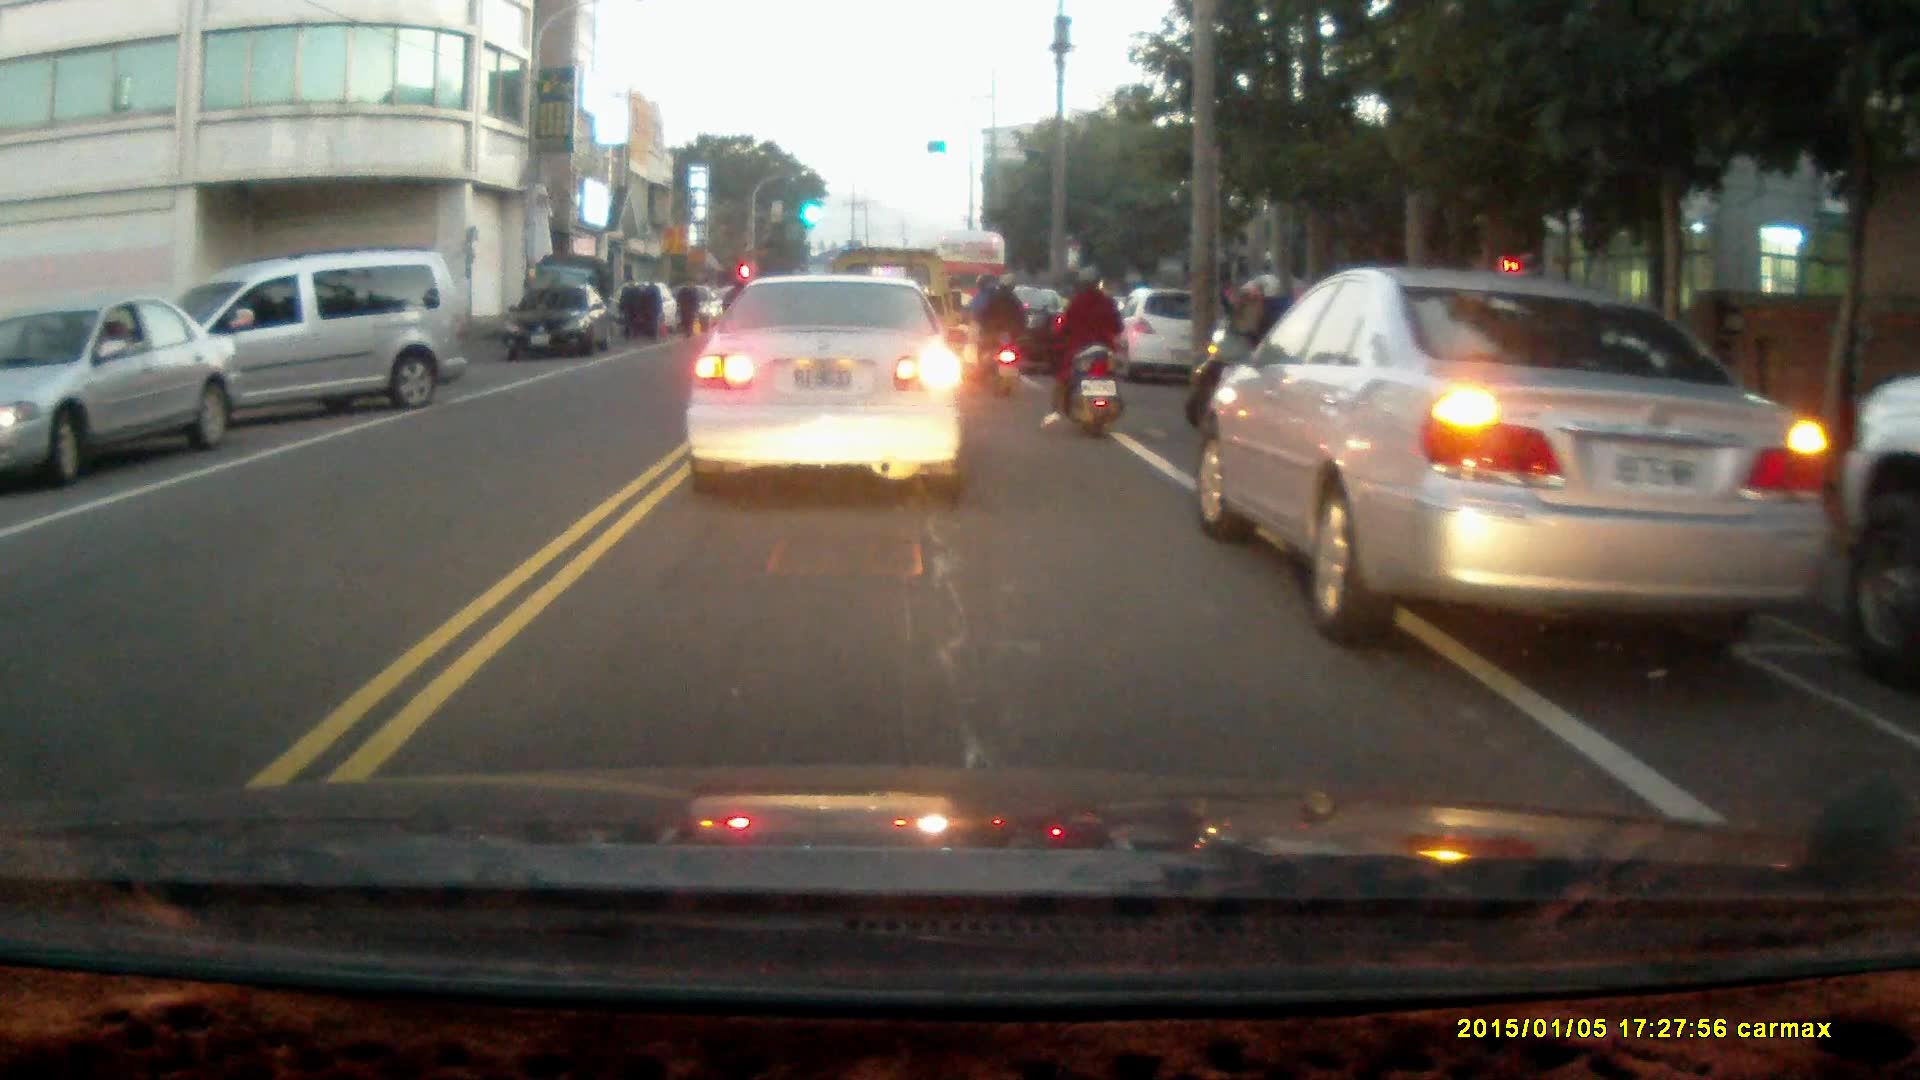pedestrian: (615, 271, 642, 343), (672, 272, 700, 337), (637, 269, 660, 346)
rider: (1185, 272, 1312, 443), (1032, 262, 1126, 439), (959, 268, 1027, 396)
vehicle: (1193, 260, 1838, 648), (684, 272, 971, 501), (125, 250, 467, 439), (1, 296, 245, 487), (1837, 373, 1920, 682), (967, 282, 1116, 382), (1114, 290, 1222, 388), (508, 280, 614, 359)
